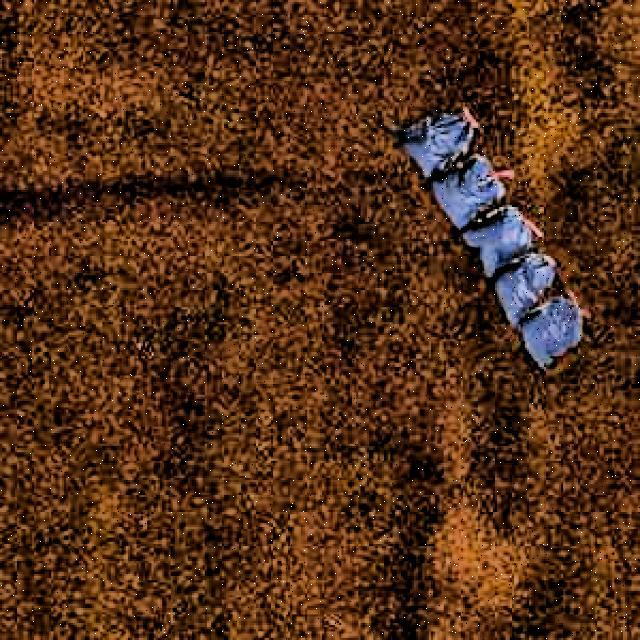Trashbag: (399, 102, 477, 170), (438, 154, 509, 222), (468, 207, 534, 269), (498, 252, 559, 318), (526, 304, 584, 370)
